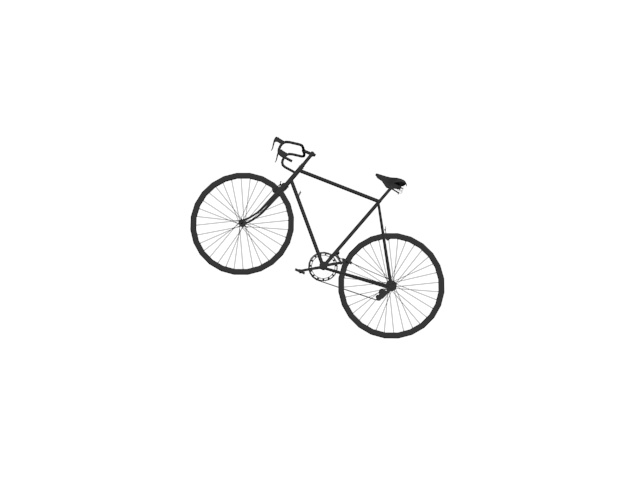bike: (185, 137, 448, 344)
